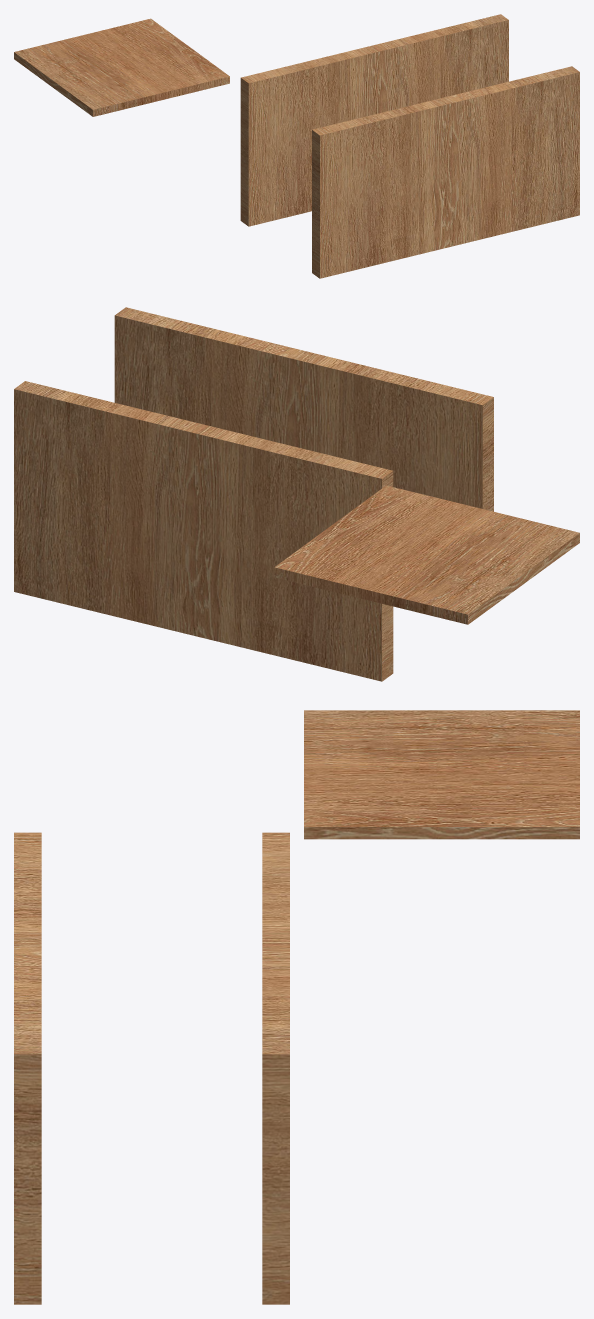
Rendered from 19416_gpt-only.glb.
3 renders of one model, top to bottom at view 1: azimuth 30°, elevation 25°; view 2: azimuth 150°, elevation 25°; view 3: azimuth 270°, elevation 25°, orthographic. The views are drawn at different scales.
Visible parts, largest first — view 1: ParentEmpty; view 2: ParentEmpty; view 3: ParentEmpty.
Part boxes in pixels (x1,y1,x2,y2): ParentEmpty: (14, 14, 579, 278); ParentEmpty: (14, 307, 579, 681); ParentEmpty: (14, 710, 579, 1304).
Bounding box in the file's own units: 1 × 0.339 × 0.6949.
Materials: 1 (1 with a texture image).
